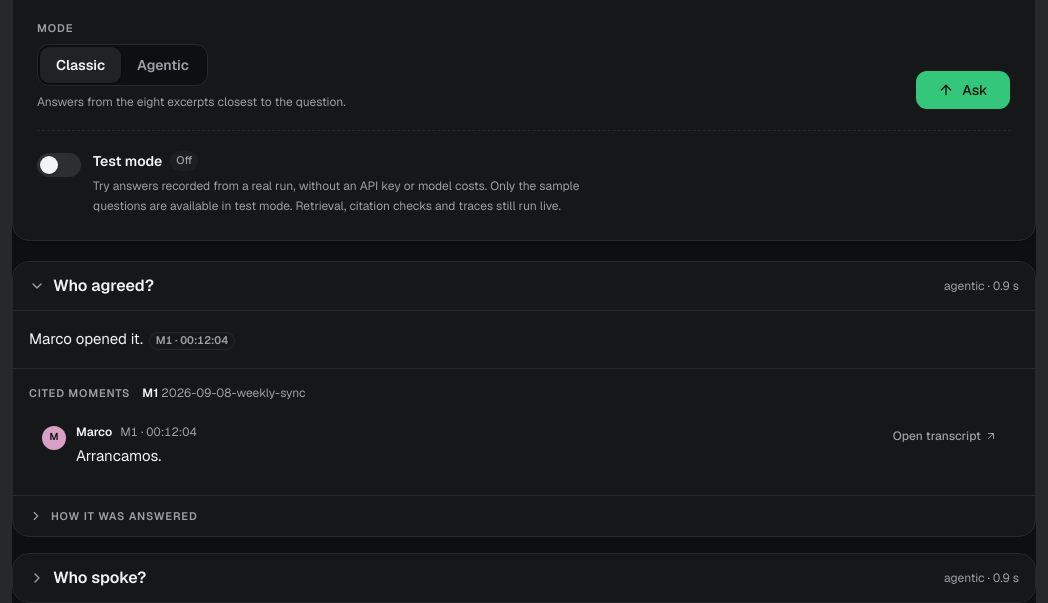
AskPanel folds › unfolds an earlier answer when its question is pressed
Click the button "Who spoke? agentic · 0.9 s" at (100, 578), box [13,554,1035,602]
(page scrolled)
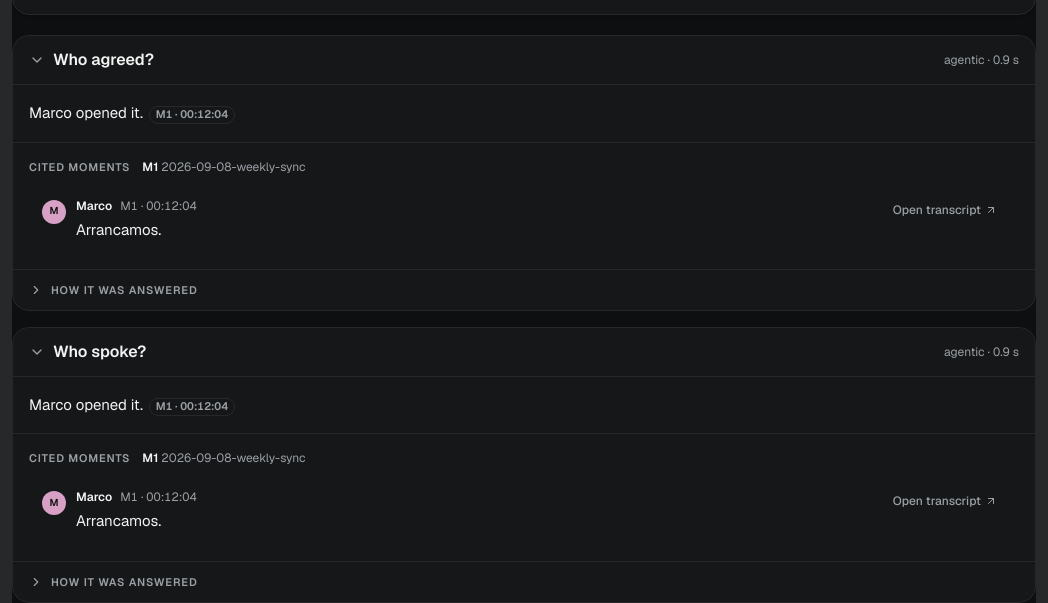
Expected: the 2nd text "Marco opened it. M1 · 00:12:04" is shown, [29,395,235,416]
